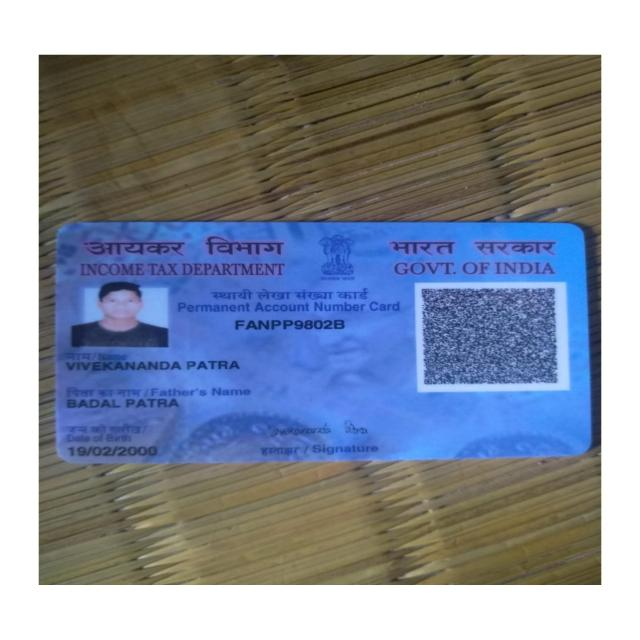pan_card: (57, 224, 590, 463)
